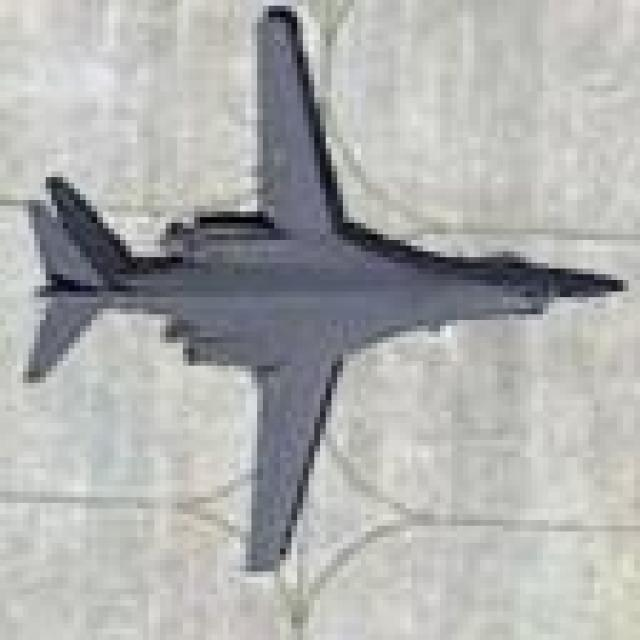B-1_TopDown: (17, 0, 628, 571)
